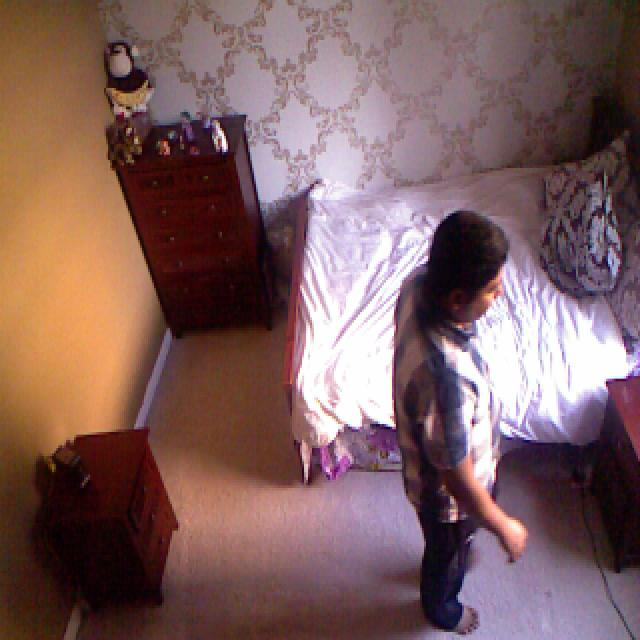standing: (398, 199, 524, 640)
